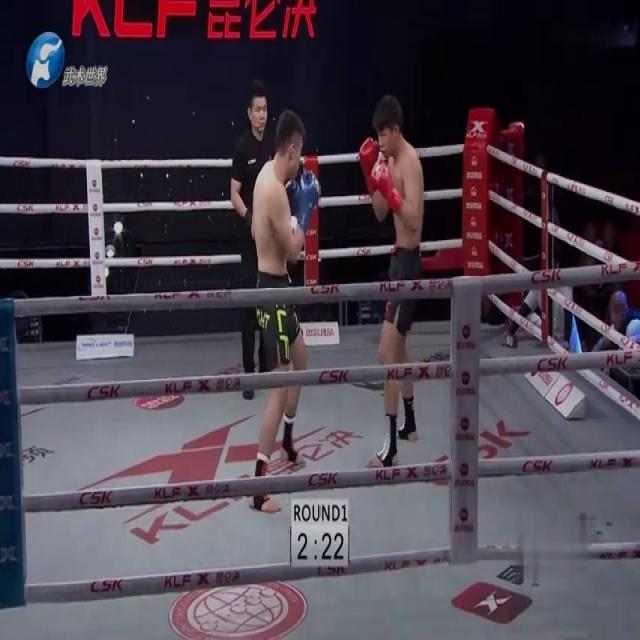fight: (226, 83, 437, 492)
